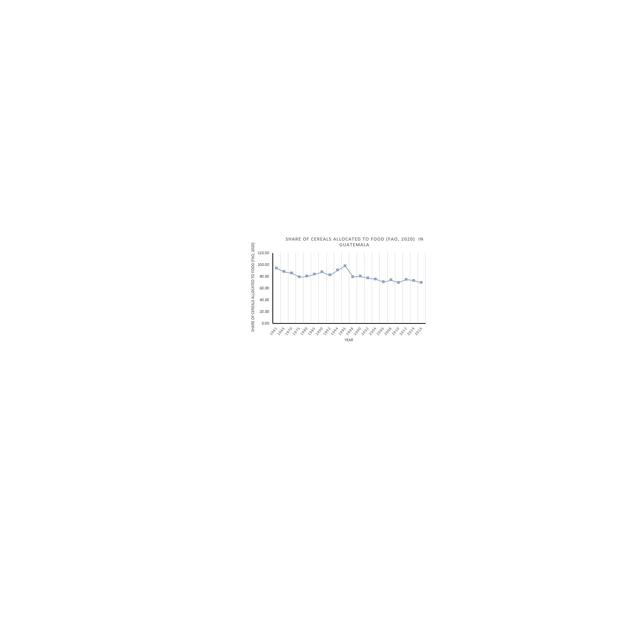Graph: (247, 233, 429, 345)
